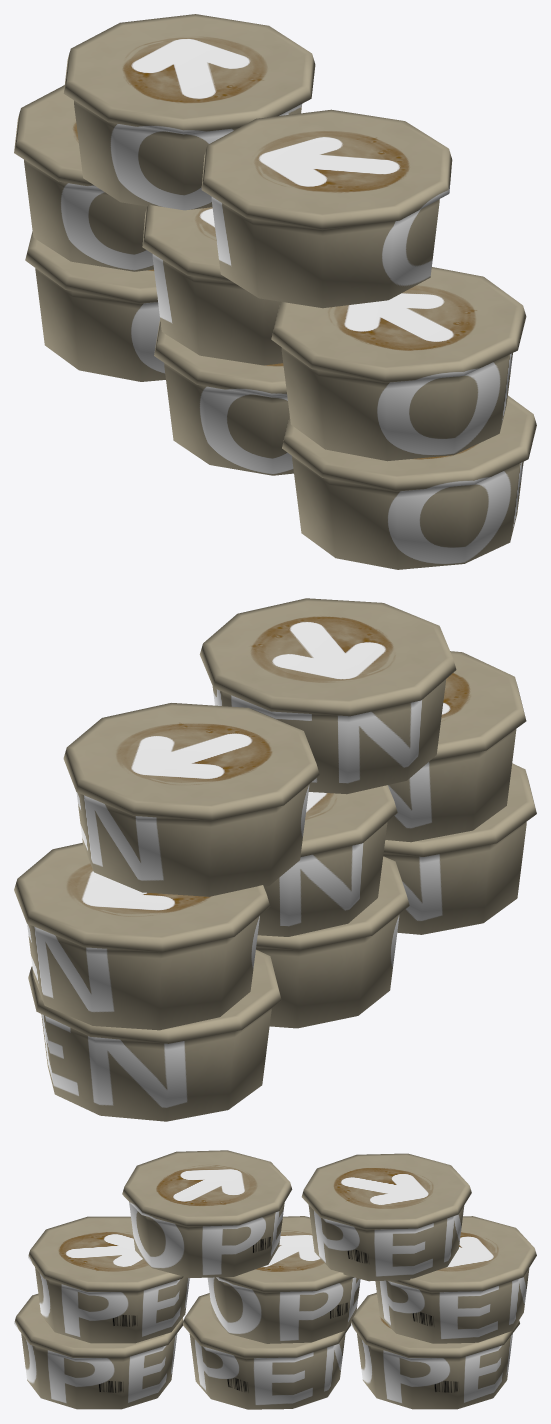
Rendered from margarine_large.fbx.
3 views of the same model, one above another, from view 1: azimuth 30°, elevation 25°; view 2: azimuth 150°, elevation 25°; view 3: azimuth 270°, elevation 25° (orthographic). The views are drawn at different scales.
Parts seen in each view (by area): view 1: margarine; view 2: margarine; view 3: margarine.
Boxes of the visible parts, <box> form: margarine: <box>14,14,536,569</box>; margarine: <box>14,598,536,1121</box>; margarine: <box>14,1150,536,1409</box>.
Bounding box in the file's own units: 229 × 300 × 725.
Materials: 1 (1 with a texture image).
